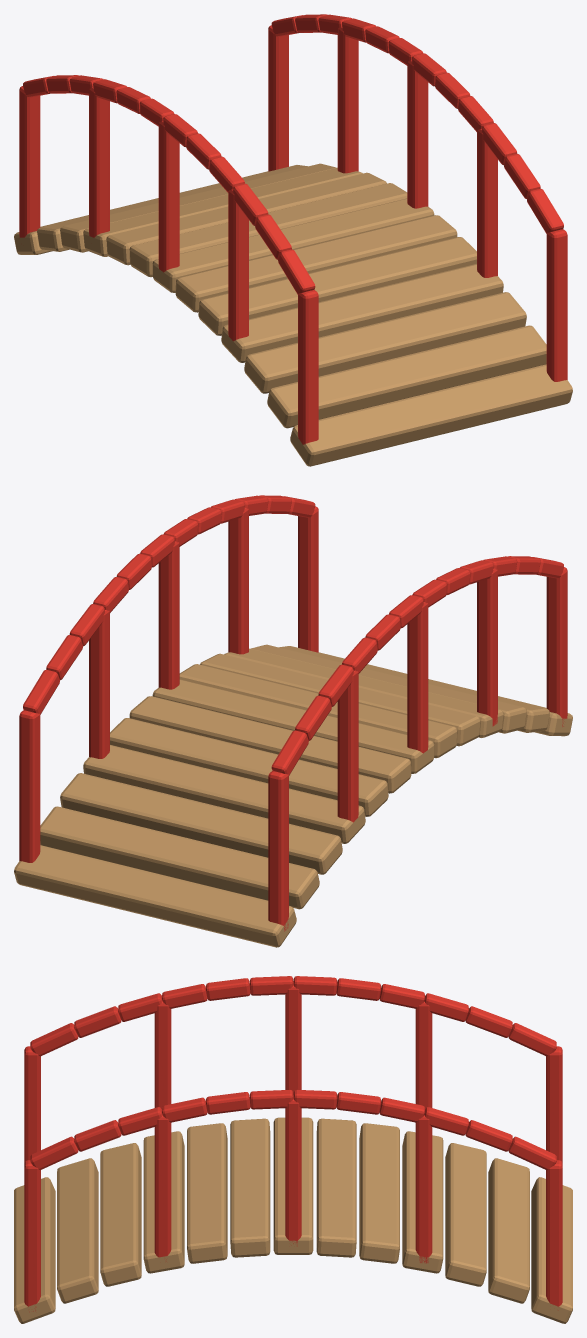
File: S074_arched_garden_bridge.glb
3 renders of one model, top to bottom at view 1: azimuth 30°, elevation 25°; view 2: azimuth 150°, elevation 25°; view 3: azimuth 270°, elevation 25°, orthographic. The views are drawn at different scales.
Visible parts, largest first — view 1: arched_bridge_plank, arched_bridge_plank.001, arched_bridge_plank.002, arched_bridge_plank.003, arched_bridge_plank.004, arched_bridge_plank.005, arched_bridge_plank.006, arched_bridge_plank.007, arched_bridge_plank.008, arched_bridge_post.005, arched_bridge_post, arched_bridge_post.004 (+25 smaller); view 2: arched_bridge_plank.012, arched_bridge_plank.011, arched_bridge_plank.010, arched_bridge_plank.009, arched_bridge_plank.008, arched_bridge_plank.007, arched_bridge_plank.006, arched_bridge_plank.005, arched_bridge_plank.004, arched_bridge_post.009, arched_bridge_post.004, arched_bridge_post (+25 smaller); view 3: arched_bridge_plank.002, arched_bridge_plank.010, arched_bridge_plank.001, arched_bridge_plank.011, arched_bridge_plank.004, arched_bridge_plank.008, arched_bridge_plank.005, arched_bridge_plank.007, arched_bridge_plank.006, arched_bridge_plank.003, arched_bridge_plank.009, arched_bridge_plank (+35 smaller).
Part boxes in pixels (x1,y1,x2,y2): arched_bridge_plank: [290, 364, 572, 466]; arched_bridge_plank.001: [267, 325, 546, 428]; arched_bridge_plank.002: [244, 292, 526, 393]; arched_bridge_plank.003: [221, 264, 503, 362]; arched_bridge_plank.004: [198, 237, 476, 335]; arched_bridge_plank.005: [175, 215, 457, 312]; arched_bridge_plank.006: [152, 198, 434, 292]; arched_bridge_plank.007: [129, 183, 407, 277]; arched_bridge_plank.008: [106, 172, 386, 265]; arched_bridge_post.005: [546, 229, 567, 381]; arched_bridge_post: [298, 290, 318, 444]; arched_bridge_post.004: [19, 86, 40, 237]; arched_bridge_plank.012: [14, 845, 296, 947]; arched_bridge_plank.011: [40, 806, 319, 909]; arched_bridge_plank.010: [60, 773, 342, 874]; arched_bridge_plank.009: [83, 745, 365, 843]; arched_bridge_plank.008: [110, 718, 388, 816]; arched_bridge_plank.007: [129, 696, 411, 793]; arched_bridge_plank.006: [152, 679, 434, 773]; arched_bridge_plank.005: [179, 664, 457, 758]; arched_bridge_plank.004: [200, 653, 480, 746]; arched_bridge_post.009: [19, 710, 40, 862]; arched_bridge_post.004: [268, 771, 288, 931]; arched_bridge_post: [546, 567, 567, 726]; arched_bridge_plank.002: [100, 1143, 141, 1286]; arched_bridge_plank.010: [445, 1143, 486, 1286]; arched_bridge_plank.001: [57, 1158, 98, 1303]; arched_bridge_plank.011: [488, 1158, 529, 1303]; arched_bridge_plank.004: [187, 1123, 227, 1263]; arched_bridge_plank.008: [359, 1123, 399, 1263]; arched_bridge_plank.005: [230, 1118, 270, 1257]; arched_bridge_plank.007: [316, 1118, 356, 1257]; arched_bridge_plank.006: [273, 1117, 313, 1254]; arched_bridge_plank.003: [143, 1131, 184, 1273]; arched_bridge_plank.009: [402, 1131, 443, 1273]; arched_bridge_plank: [14, 1177, 55, 1323].
Size of the model in its own units: 1.38 by 1.23 by 2.7.
